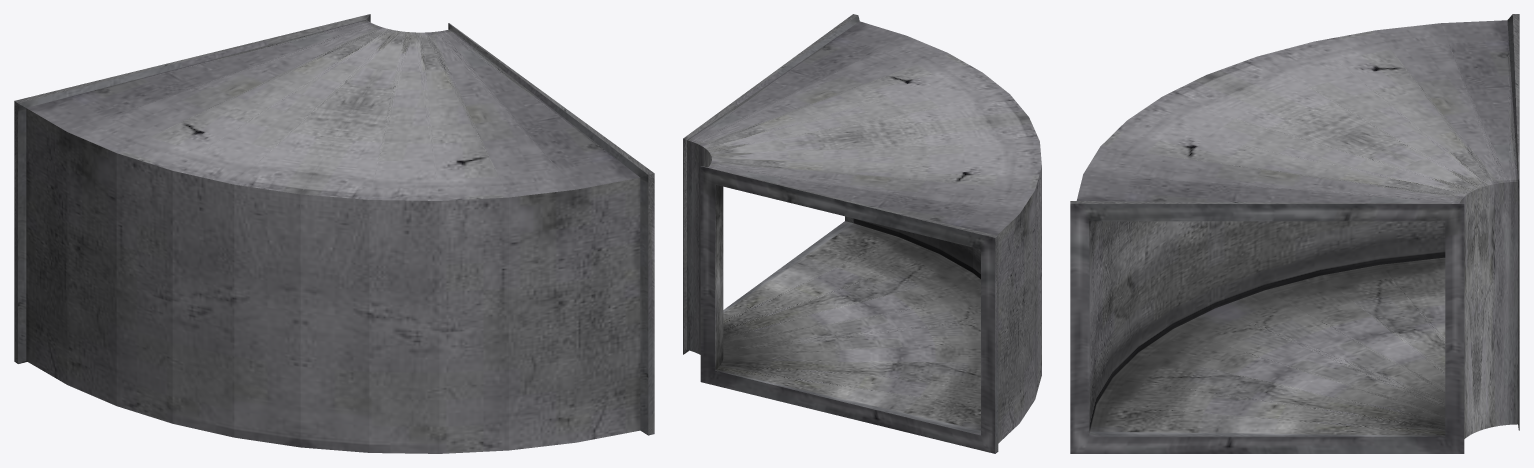
Rendered from pipe3.fbx.
3 renders of one model, left to right at view 1: azimuth 30°, elevation 25°; view 2: azimuth 150°, elevation 25°; view 3: azimuth 270°, elevation 25°, orthographic. The views are drawn at different scales.
Visible parts, largest first — view 1: Cube.002; view 2: Cube.002; view 3: Cube.002.
Part boxes in pixels (left/top/right/bottom): Cube.002: left=14, top=14, right=654, bottom=453; Cube.002: left=683, top=14, right=1041, bottom=453; Cube.002: left=1070, top=14, right=1519, bottom=453.
Bounding box in the file's own units: 235 × 144 × 235.
